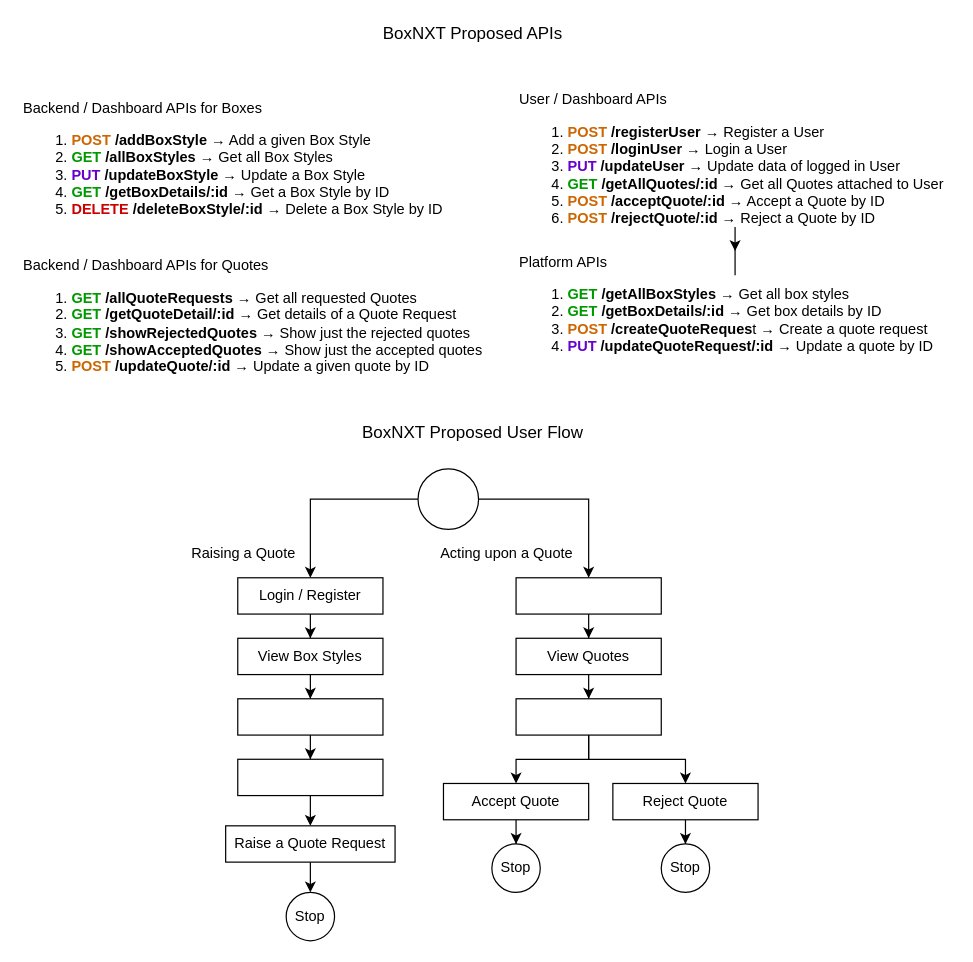
Image size: 973x962. Some labels were removed from this diagram. The centre of each missing label's shape, as x and y in pixels:
Fill / Select Details: (x=310, y=777)
Login: (x=588, y=595)
See past Quotes: (x=588, y=716)
Select a Box Style: (x=310, y=716)
Start: (x=448, y=498)
